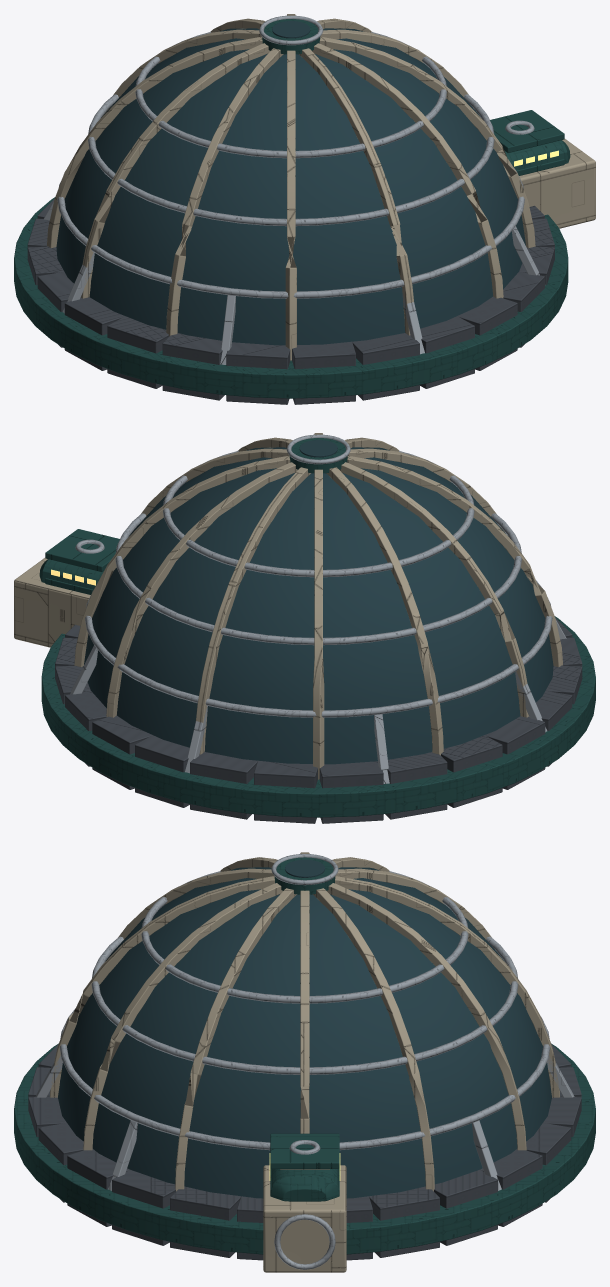
File: large_pressure_dome_habitat_lod0.glb
3 views of the same model, one above another, from view 1: azimuth 30°, elevation 25°; view 2: azimuth 150°, elevation 25°; view 3: azimuth 270°, elevation 25° (orthographic). The views are drawn at different scales.
Parts seen in each view (by area): view 1: LOD0_CANOPY, LOD0_Hull, LOD0_Armor, LOD0_Mechanical, LOD0_BrushedMetal; view 2: LOD0_CANOPY, LOD0_Hull, LOD0_Armor, LOD0_Mechanical, LOD0_BrushedMetal; view 3: LOD0_CANOPY, LOD0_Hull, LOD0_Armor, LOD0_Mechanical, LOD0_BrushedMetal.
Boxes of the visible parts, x1,y1,x2,y2 form: LOD0_CANOPY: (56, 21, 525, 345); LOD0_Hull: (47, 14, 595, 360); LOD0_Armor: (14, 19, 570, 398); LOD0_Mechanical: (27, 198, 554, 404); LOD0_BrushedMetal: (43, 15, 539, 364); LOD0_CANOPY: (84, 440, 553, 764); LOD0_Hull: (14, 433, 562, 779); LOD0_Armor: (39, 438, 595, 817); LOD0_Mechanical: (55, 617, 582, 823); LOD0_BrushedMetal: (70, 434, 566, 783); LOD0_CANOPY: (58, 859, 551, 1198); LOD0_Hull: (50, 852, 559, 1272); LOD0_Armor: (14, 857, 595, 1254); LOD0_Mechanical: (28, 1044, 581, 1260); LOD0_BrushedMetal: (35, 854, 574, 1269).
Size of the model in its own units: 46.19 by 22.16 by 42.
7 materials, 5 textured.
